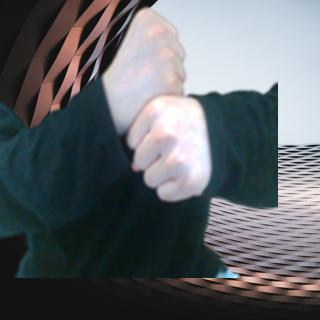CAREFUL: (100, 4, 214, 213)
